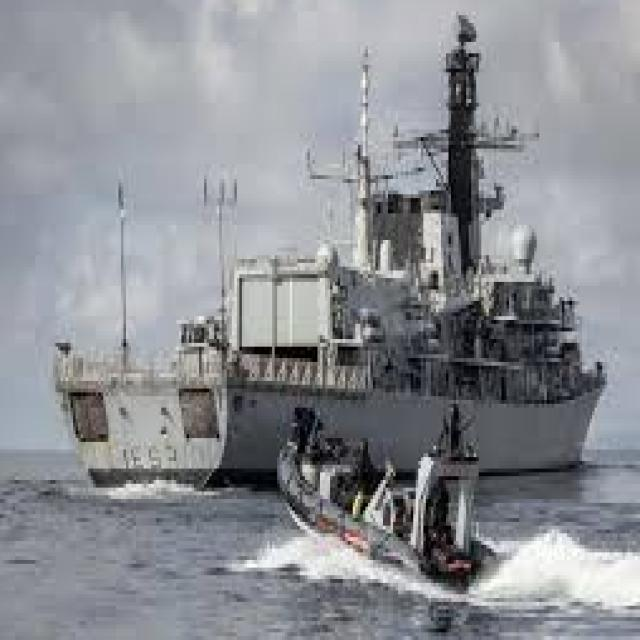houseboat: (259, 397, 527, 600)
navalvessels: (25, 0, 602, 469)
